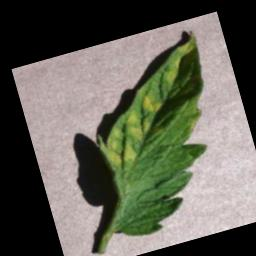Leaf_Mold: (87, 86, 176, 166), (154, 35, 207, 85)
